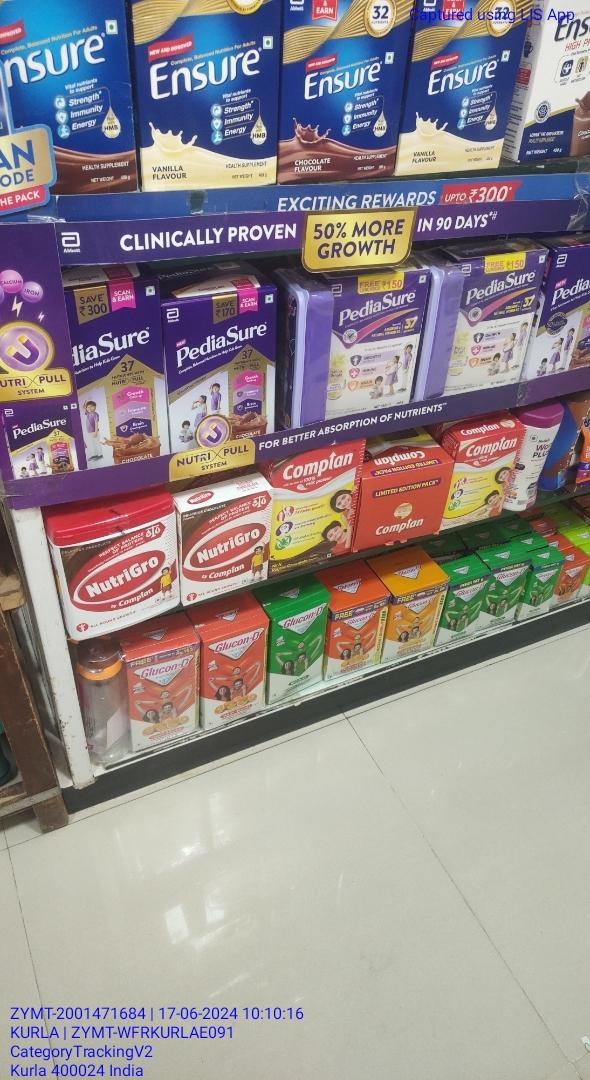ENSURE_VANILLA_400_G_PACK: (135, 0, 281, 186), (408, 0, 511, 168)
PEDIASURE_CHOCOLATE_500_G_PACK: (170, 291, 274, 435)
